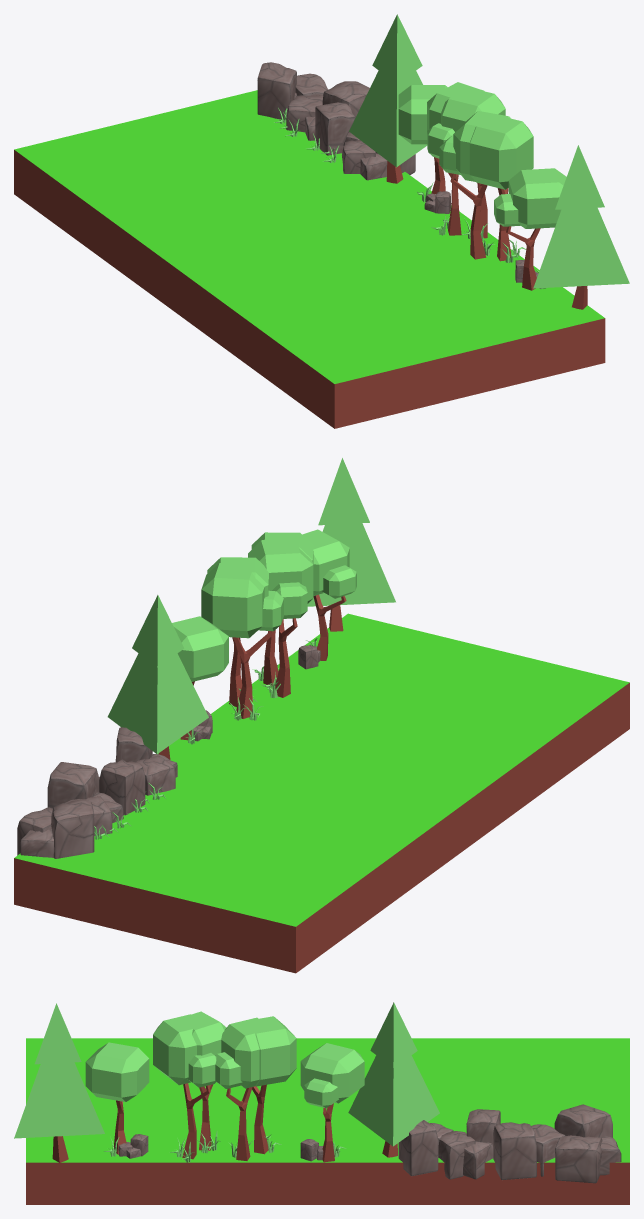
File: Rock 1.fbx
The picture shows the model from 3 angles, top to bottom: view 1: azimuth 30°, elevation 25°; view 2: azimuth 150°, elevation 25°; view 3: azimuth 270°, elevation 25°; orthographic projection. The views are drawn at different scales.
Visible parts, largest first — view 1: Cube.002, Plane.021, Plane.007, Cube.006, Cube.007, Cube.008, Rock.004, Cube.004, Rock.005, Cube.005, Cube.003, Rock.003 (+1 smaller); view 2: Cube.002, Plane.007, Cube.003, Plane.021, Cube.008, Rock.004, Cube.006, Rock.005, Cube.004, Rock.002, Rock.003, Cube.007 (+1 smaller); view 3: Cube.002, Plane.007, Plane.021, Rock.004, Cube.007, Cube.004, Cube.006, Cube.005, Rock.005, Cube.003, Rock.003, Rock.002 (+3 smaller).
Part boxes in pixels (<box>): Cube.002: <box>14,90,605,428</box>; Plane.021: <box>533,145,629,309</box>; Plane.007: <box>349,14,427,183</box>; Cube.006: <box>494,168,566,290</box>; Cube.007: <box>469,116,533,261</box>; Cube.008: <box>439,111,510,259</box>; Rock.004: <box>257,62,327,119</box>; Cube.004: <box>398,85,447,194</box>; Rock.005: <box>286,81,369,140</box>; Cube.005: <box>441,88,505,238</box>; Cube.003: <box>427,82,484,235</box>; Rock.003: <box>315,102,359,155</box>; Cube.002: <box>14,613,629,973</box>; Plane.007: <box>107,595,208,759</box>; Cube.003: <box>201,563,283,718</box>; Plane.021: <box>307,458,395,631</box>; Cube.008: <box>248,539,313,697</box>; Rock.004: <box>17,799,94,858</box>; Cube.006: <box>302,529,356,660</box>; Rock.005: <box>47,762,123,835</box>; Cube.004: <box>172,616,228,740</box>; Rock.002: <box>115,727,177,795</box>; Rock.003: <box>99,759,145,815</box>; Cube.007: <box>251,532,313,686</box>; Cube.002: <box>26,1038,629,1204</box>; Plane.007: <box>348,1002,439,1157</box>; Plane.021: <box>14,1003,104,1163</box>; Rock.004: <box>554,1104,621,1183</box>; Cube.007: <box>153,1014,216,1159</box>; Cube.004: <box>300,1043,364,1162</box>; Cube.006: <box>85,1042,149,1154</box>; Cube.005: <box>215,1017,270,1160</box>; Rock.005: <box>493,1122,565,1180</box>; Cube.003: <box>247,1016,296,1154</box>; Rock.003: <box>438,1109,500,1179</box>; Rock.002: <box>398,1120,453,1176</box>.
Bounding box in the file's own units: 1435 × 935 × 2651.
